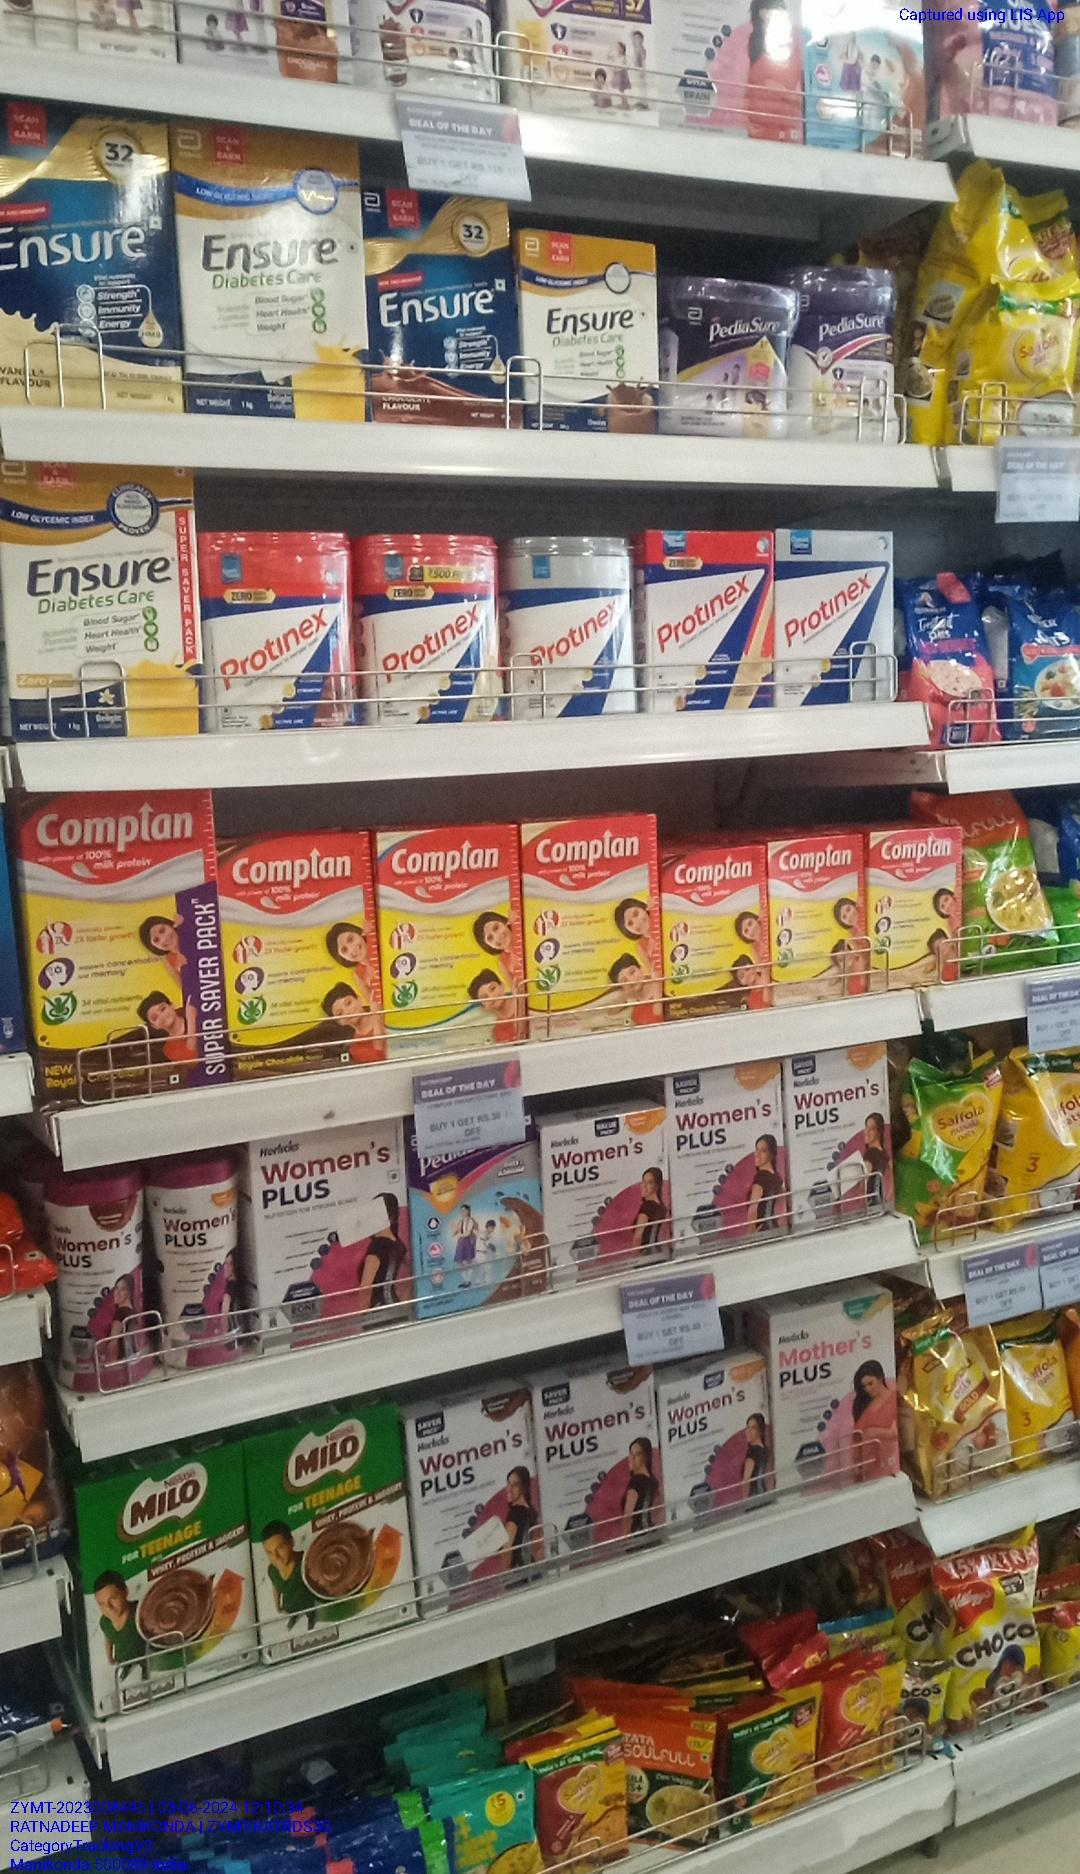ENSURE_VANILLA_400_G_PACK: (0, 118, 171, 414)
PEDIASURE_7_PLUS_CHOCOLATE_400_G_PACK: (409, 1147, 542, 1303)
PROTINEX_CHOCOLATE_400_G_JAR: (212, 526, 357, 734)
PROTINEX_ORIGINAL_400_G_JAR: (511, 542, 642, 717)
PROTINEX_VANILLA_400_G_JAR: (358, 533, 505, 722)
